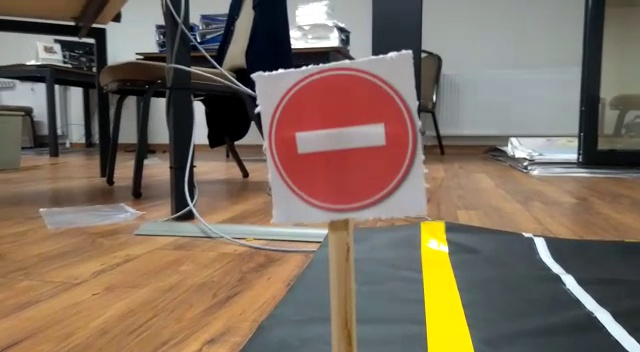girisi_olmayan_yol: (264, 64, 420, 215)
